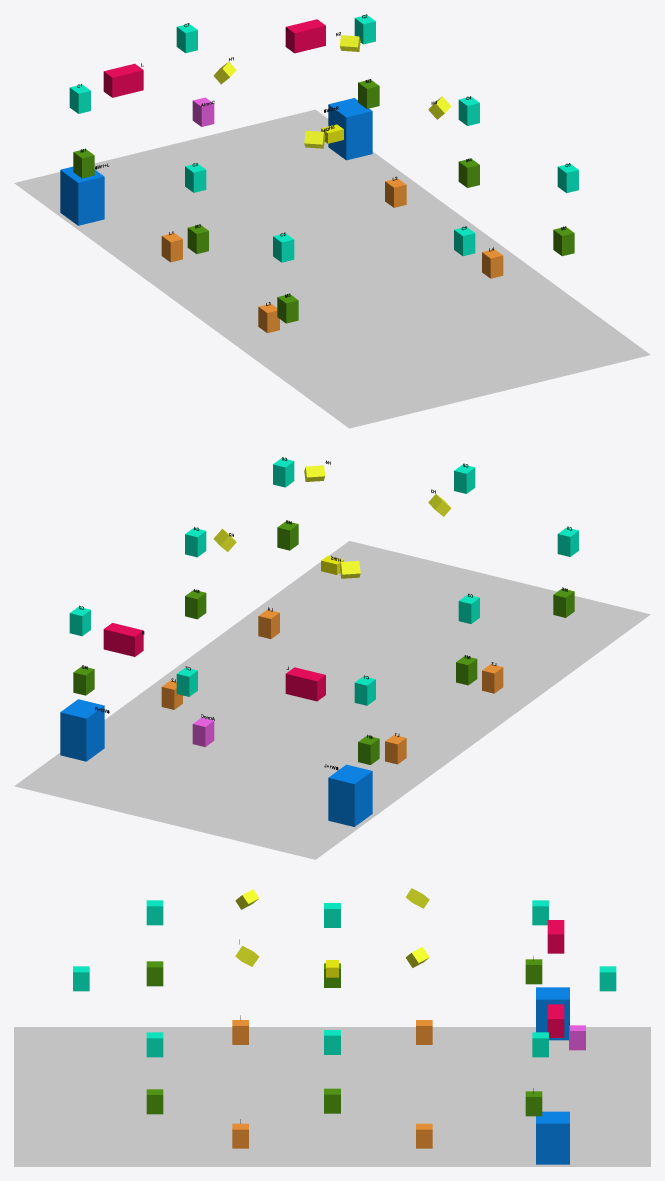
Rendered from Studio-grame-sept2026.obj.
The picture shows the model from 3 angles, top to bottom: view 1: azimuth 30°, elevation 25°; view 2: azimuth 150°, elevation 25°; view 3: azimuth 270°, elevation 25°; orthographic projection. The views are drawn at different scales.
Parts seen in each view (by area): view 1: Mesh90 Model, Mesh78 Group43 Model, Mesh79 Group44 Model, Mesh91 Model, Mesh92 Model; view 2: Mesh90 Model, Mesh78 Group43 Model, Mesh79 Group44 Model, Mesh91 Model, Mesh92 Model, Mesh69 Group34 Model; view 3: Mesh90 Model, Mesh79 Group44 Model, Mesh78 Group43 Model, Mesh91 Model, Mesh92 Model, Mesh70 Group35 Model, Mesh75 Group40 Model, Mesh76 Group41 Model, Mesh84 Group49 Model, Mesh86 Group51 Model, Mesh87 Group52 Model, Mesh89 Group54 Model (+11 smaller).
Boxes of the visible parts, x1=… form: Mesh90 Model: x1=14, y1=109, x2=650, y2=428; Mesh78 Group43 Model: x1=60, y1=166, x2=104, y2=225; Mesh79 Group44 Model: x1=328, y1=98, x2=372, y2=160; Mesh91 Model: x1=103, y1=63, x2=143, y2=97; Mesh92 Model: x1=285, y1=19, x2=325, y2=53; Mesh90 Model: x1=14, y1=541, x2=650, y2=859; Mesh78 Group43 Model: x1=328, y1=764, x2=372, y2=826; Mesh79 Group44 Model: x1=60, y1=699, x2=104, y2=761; Mesh91 Model: x1=285, y1=667, x2=325, y2=701; Mesh92 Model: x1=103, y1=623, x2=143, y2=656; Mesh69 Group34 Model: x1=192, y1=717, x2=214, y2=746; Mesh90 Model: x1=14, y1=1027, x2=650, y2=1166; Mesh79 Group44 Model: x1=536, y1=1111, x2=569, y2=1164; Mesh78 Group43 Model: x1=536, y1=987, x2=569, y2=1040; Mesh91 Model: x1=547, y1=920, x2=564, y2=953; Mesh92 Model: x1=547, y1=1004, x2=564, y2=1037; Mesh70 Group35 Model: x1=146, y1=1032, x2=163, y2=1057; Mesh75 Group40 Model: x1=146, y1=900, x2=163, y2=925; Mesh76 Group41 Model: x1=599, y1=966, x2=616, y2=991; Mesh84 Group49 Model: x1=146, y1=1089, x2=163, y2=1114; Mesh86 Group51 Model: x1=525, y1=1091, x2=542, y2=1116; Mesh87 Group52 Model: x1=525, y1=959, x2=542, y2=984; Mesh89 Group54 Model: x1=146, y1=961, x2=163, y2=986.
Bounding box in the file's own units: 5.4 × 3.26 × 10.4.
